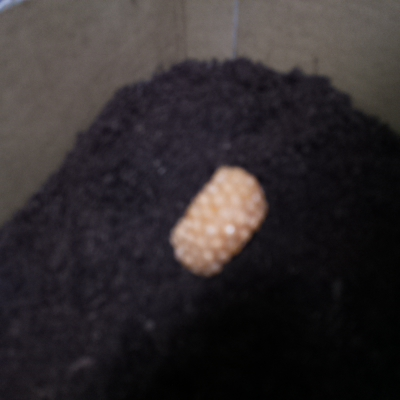eggs: (152, 159, 274, 283)
